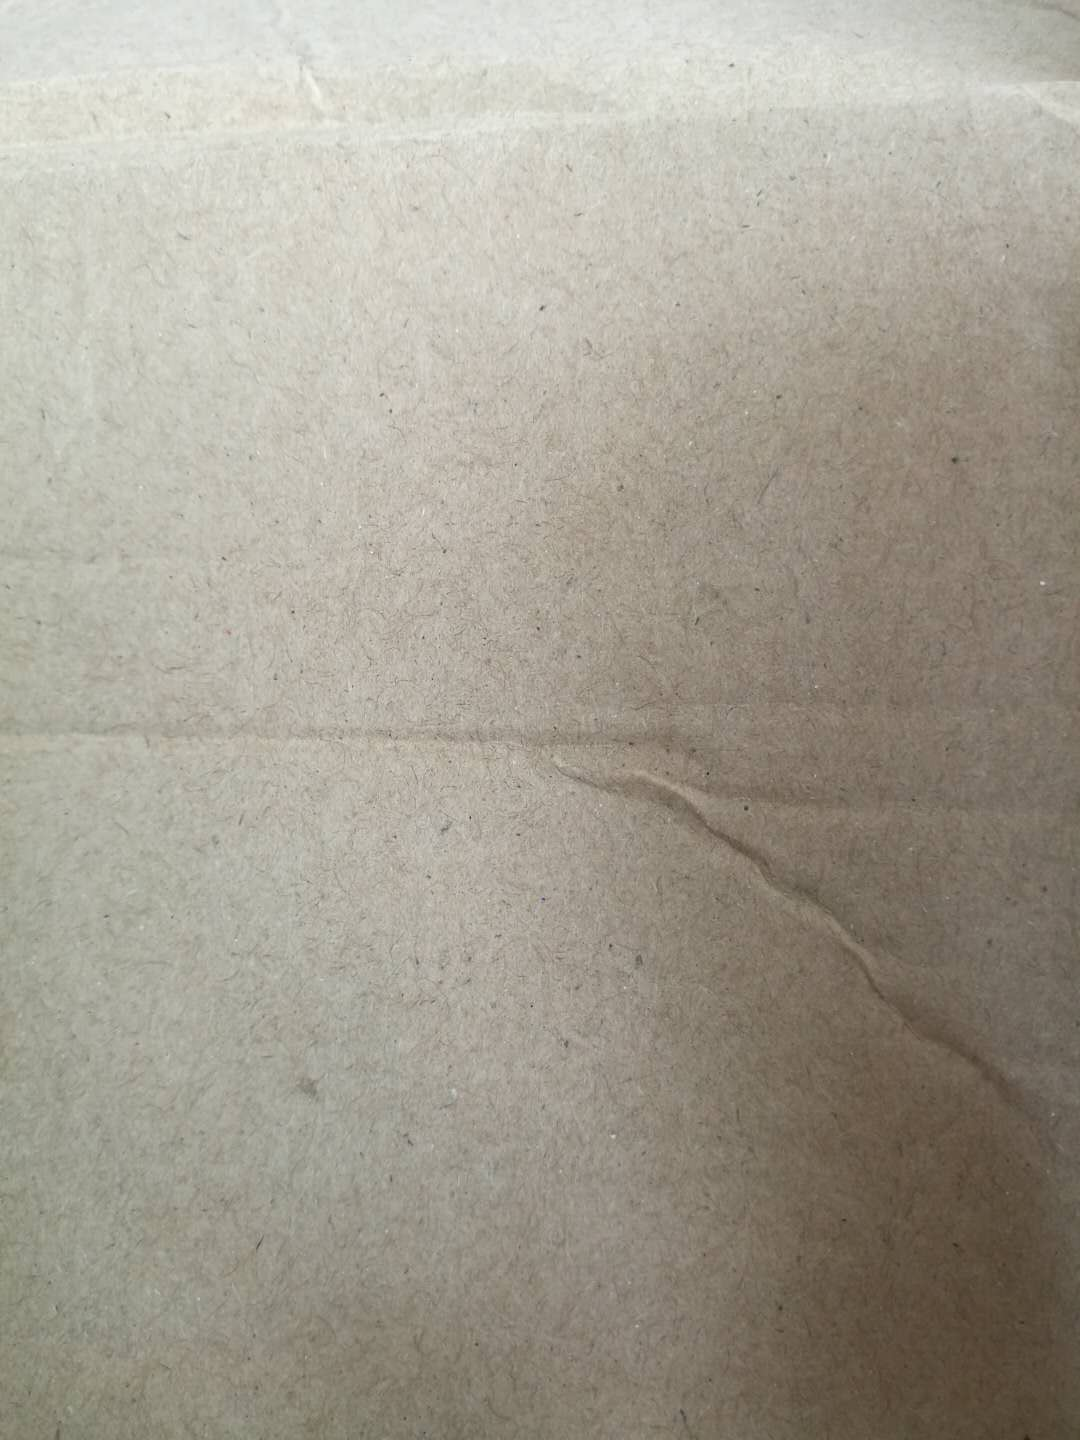defect: (523, 739, 1080, 1203), (3, 22, 1080, 186), (3, 672, 1080, 825)
